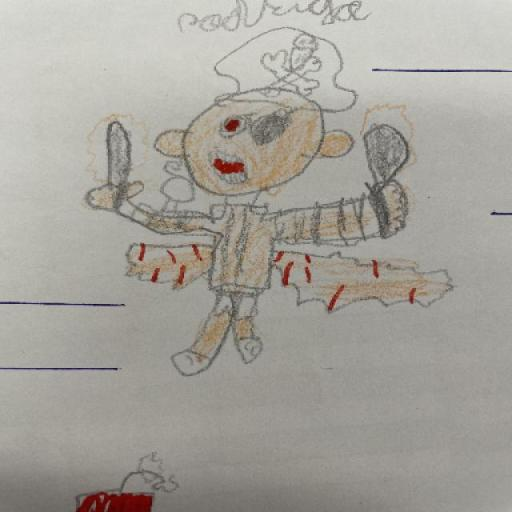person: (71, 29, 456, 408)
